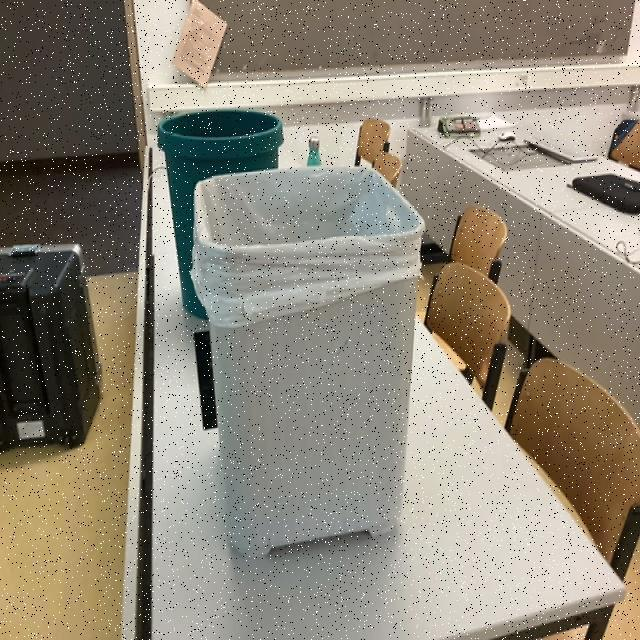garbage container: (182, 177, 446, 579)
